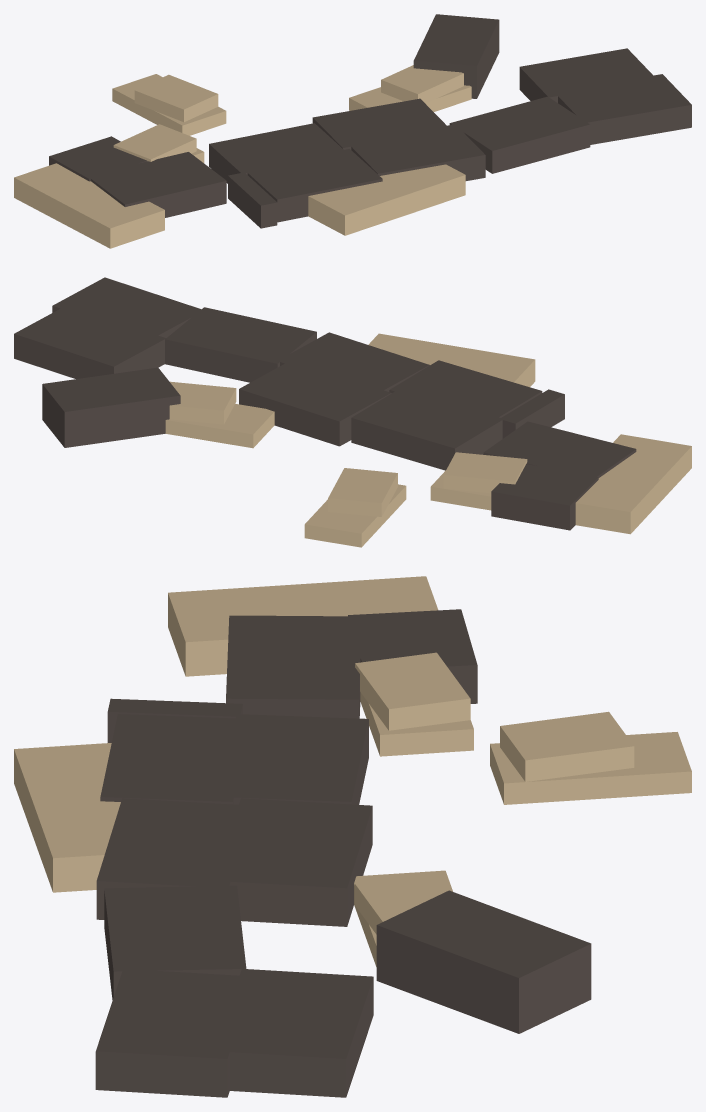
File: SM_PretilEsquinaPaso_v1_Talud_e3_Brecha_LOD1.fbx
3 views of the same model, one above another, from view 1: azimuth 30°, elevation 25°; view 2: azimuth 150°, elevation 25°; view 3: azimuth 270°, elevation 25° (orthographic). The views are drawn at different scales.
Parts seen in each view (by area): view 1: SM_pretil_azotea_v47_LOD1; view 2: SM_pretil_azotea_v47_LOD1; view 3: SM_pretil_azotea_v47_LOD1.
Boxes of the visible parts, x1=… form: SM_pretil_azotea_v47_LOD1: x1=14, y1=14, x2=691, y2=248; SM_pretil_azotea_v47_LOD1: x1=14, y1=277, x2=691, y2=547; SM_pretil_azotea_v47_LOD1: x1=14, y1=576, x2=691, y2=1097.
Size of the model in its own units: 4.85 by 0.26 by 2.85.
